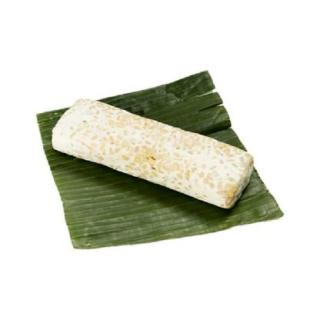Tempe: (50, 97, 257, 213)
